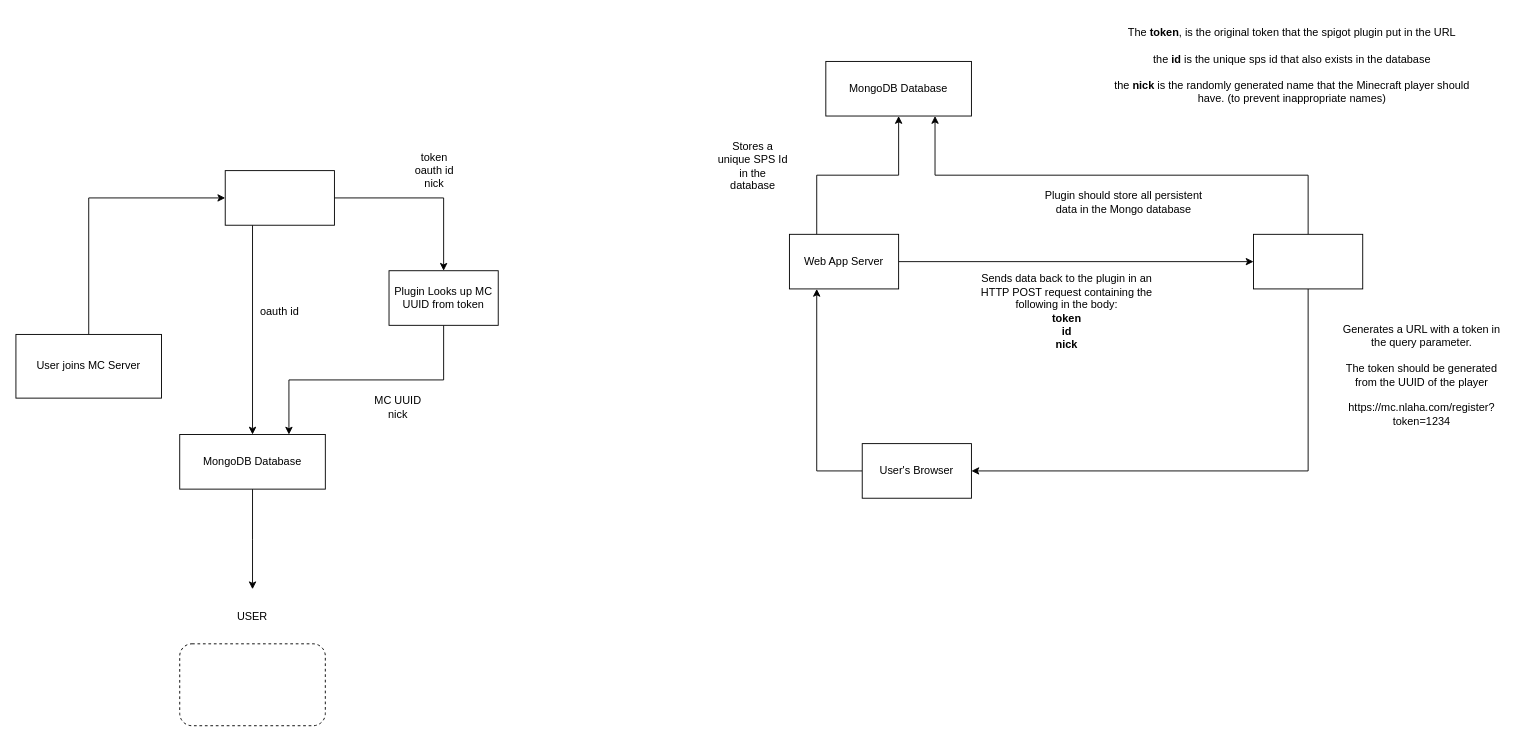
The diagram is 1524 pixels wide and 742 high, and some of its shapes have lost their labels. Here are the shapes that lost their labels. From the top down, the centre of each, then its label:
At (279,197): "User logs in to SPS Account".
At (1308,261): "Spigot Plugin".
At (252,684): "oauth id MC UUID nick ban status".
